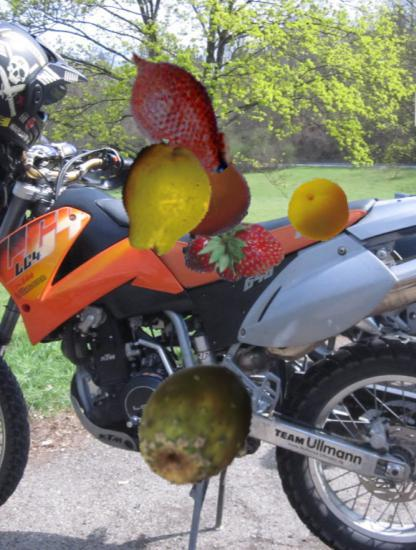Cactus: (133, 358, 267, 492)
Peach: (286, 178, 350, 242)
Quince: (107, 140, 223, 256)
Salak: (102, 38, 252, 188)
Strawberry: (183, 195, 286, 298)
Tangelo: (157, 150, 251, 244)
